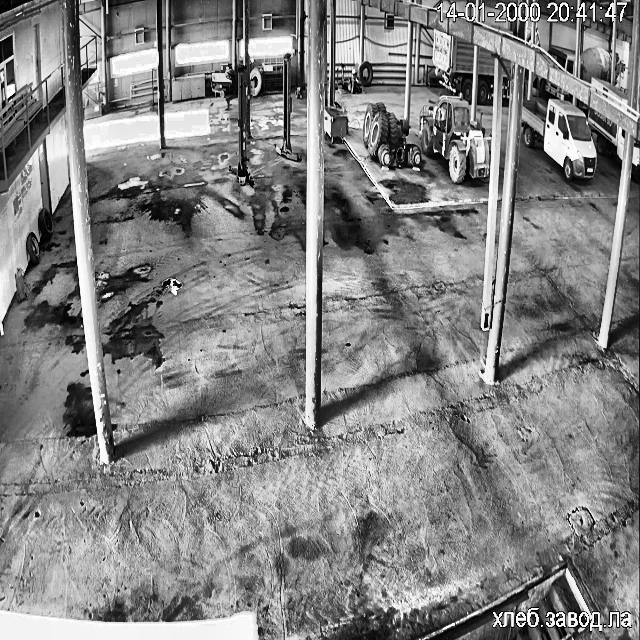class6: (420, 94, 489, 182), (362, 102, 420, 165)
class7: (522, 100, 596, 180), (432, 28, 472, 100), (588, 108, 624, 158), (580, 46, 610, 82), (477, 48, 494, 102), (592, 78, 628, 102), (536, 77, 572, 100), (548, 45, 574, 73), (632, 140, 640, 179), (500, 77, 508, 97), (504, 60, 510, 70), (616, 59, 620, 70)
tractor: (16, 268, 24, 300)
truck: (229, 66, 252, 185), (275, 53, 300, 161)
